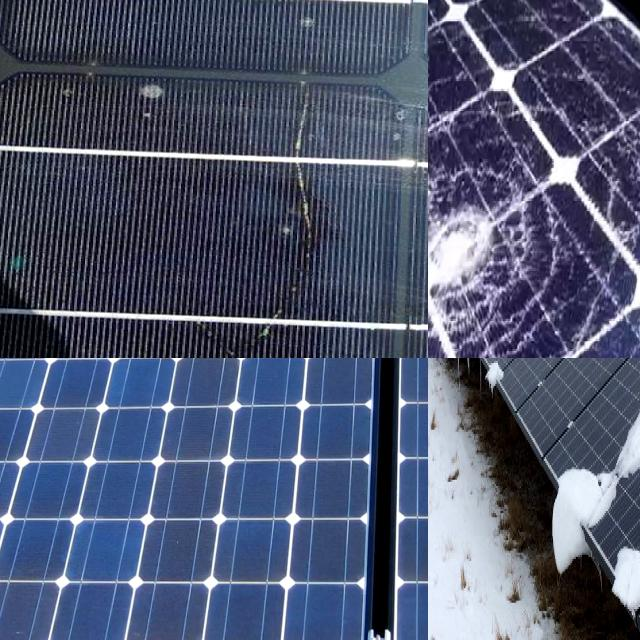crack: (0, 358, 369, 640)
hotspot: (428, 147, 523, 326)
panel: (546, 422, 611, 528), (605, 358, 640, 490), (482, 358, 547, 416), (453, 358, 546, 393), (613, 513, 640, 622)
shadow: (251, 60, 341, 356)
